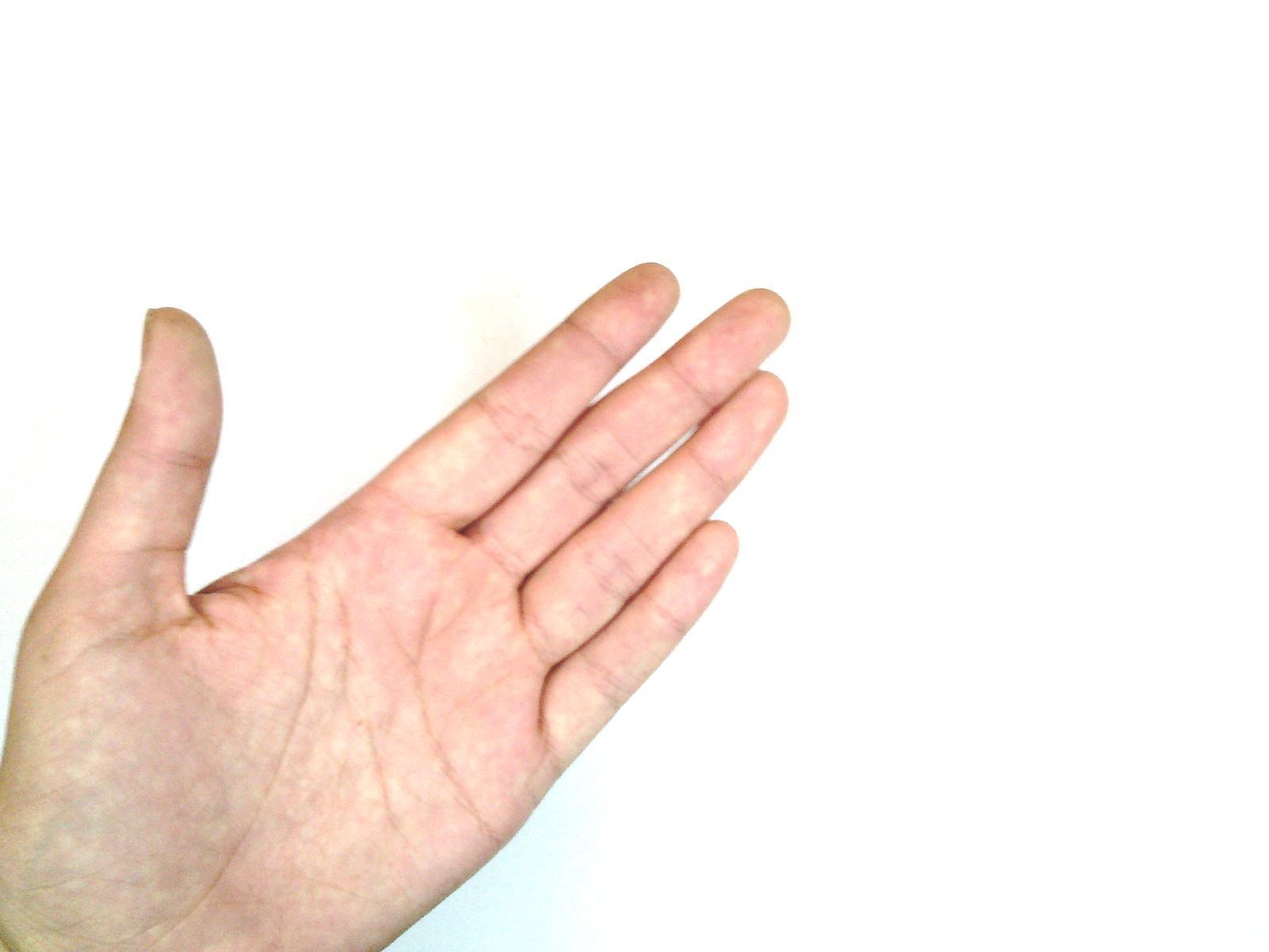open_palm: (3, 260, 795, 951)
